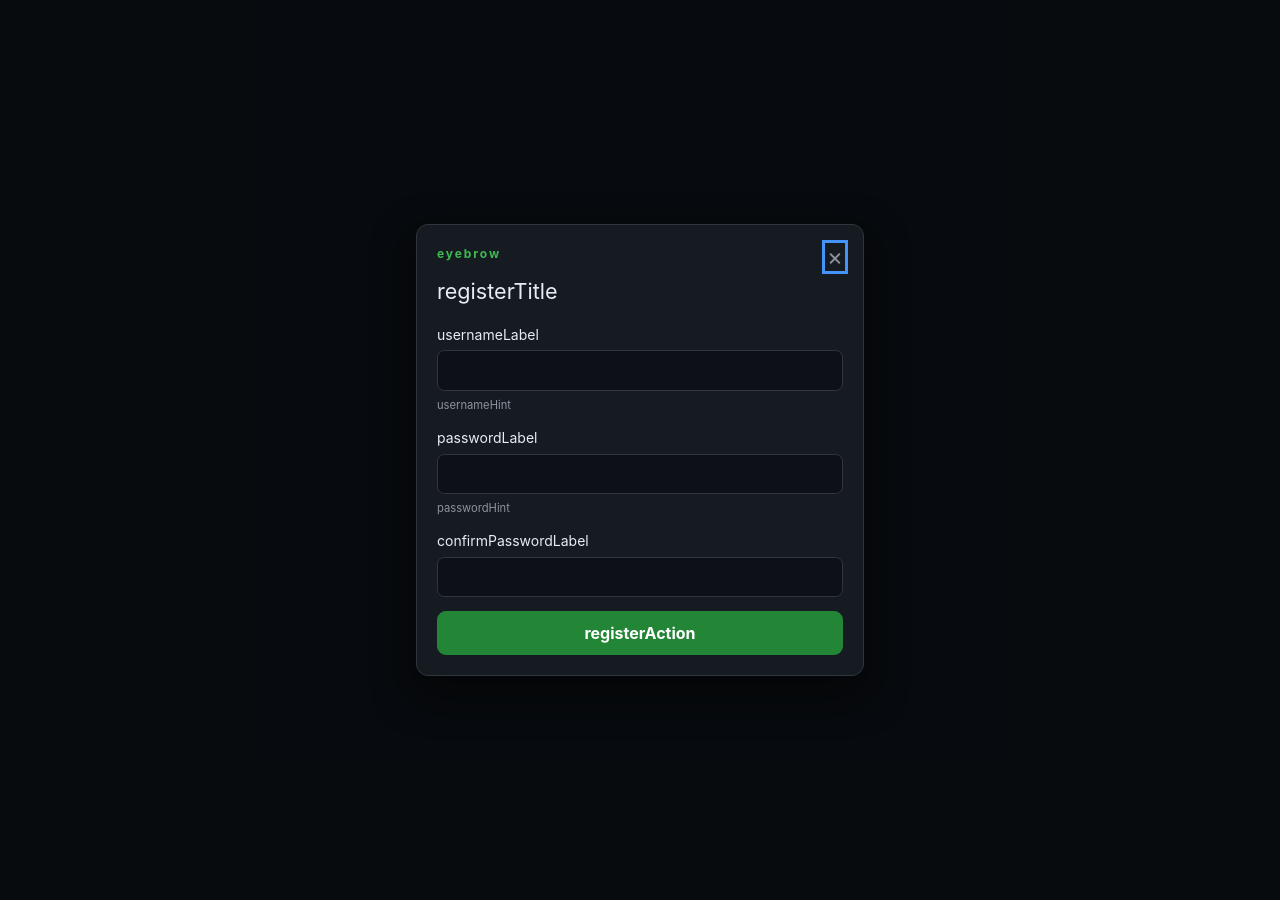
Test case: account-modal credentials › shows register failure after a valid registration submission (server detail)
The image size is (1280, 900).
Type "warsaw" into the field with id "register-username" at (640, 371), box [437,350,843,391]
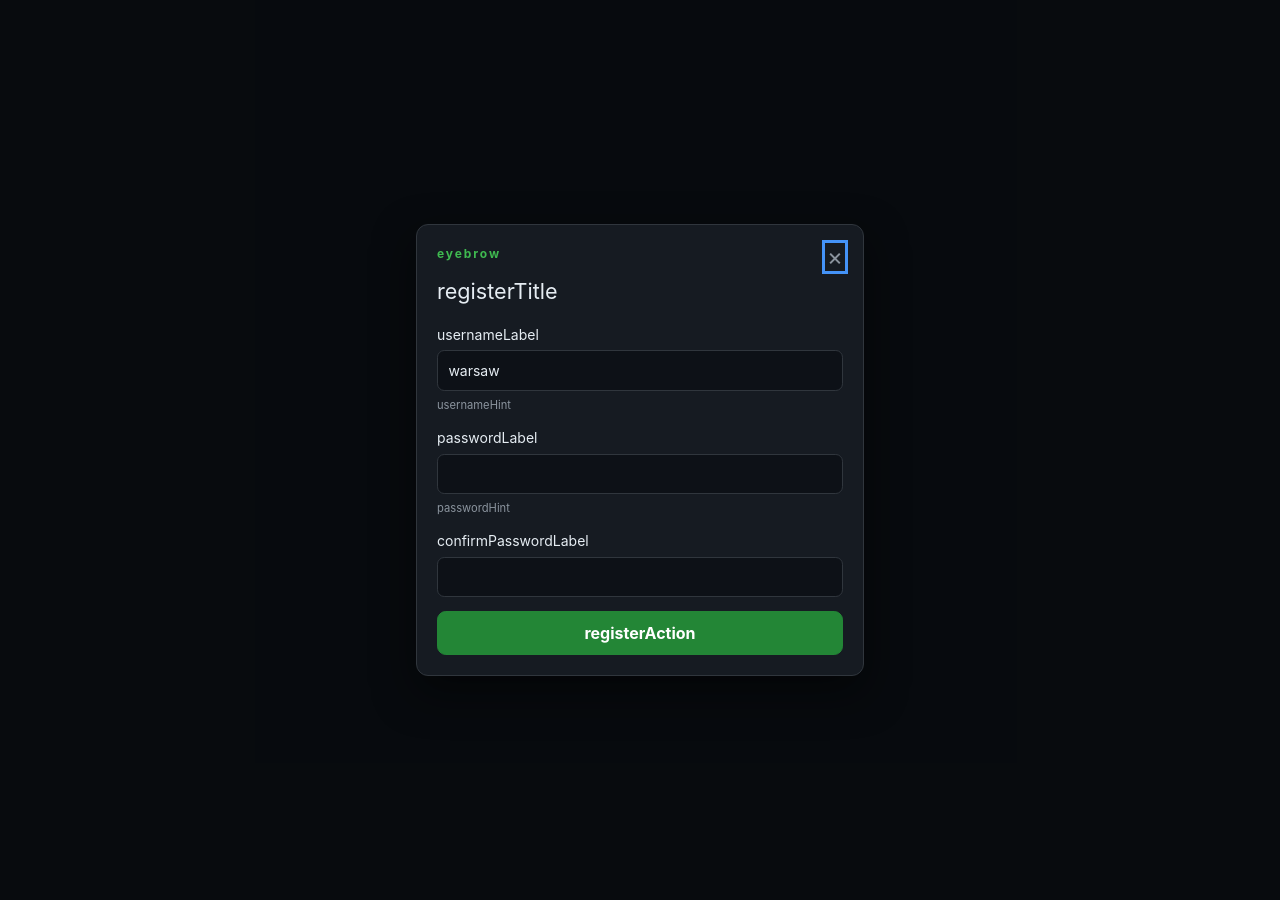
Type "longenough123" into the password field with id "register-password" at (640, 474), box [437,454,843,494]
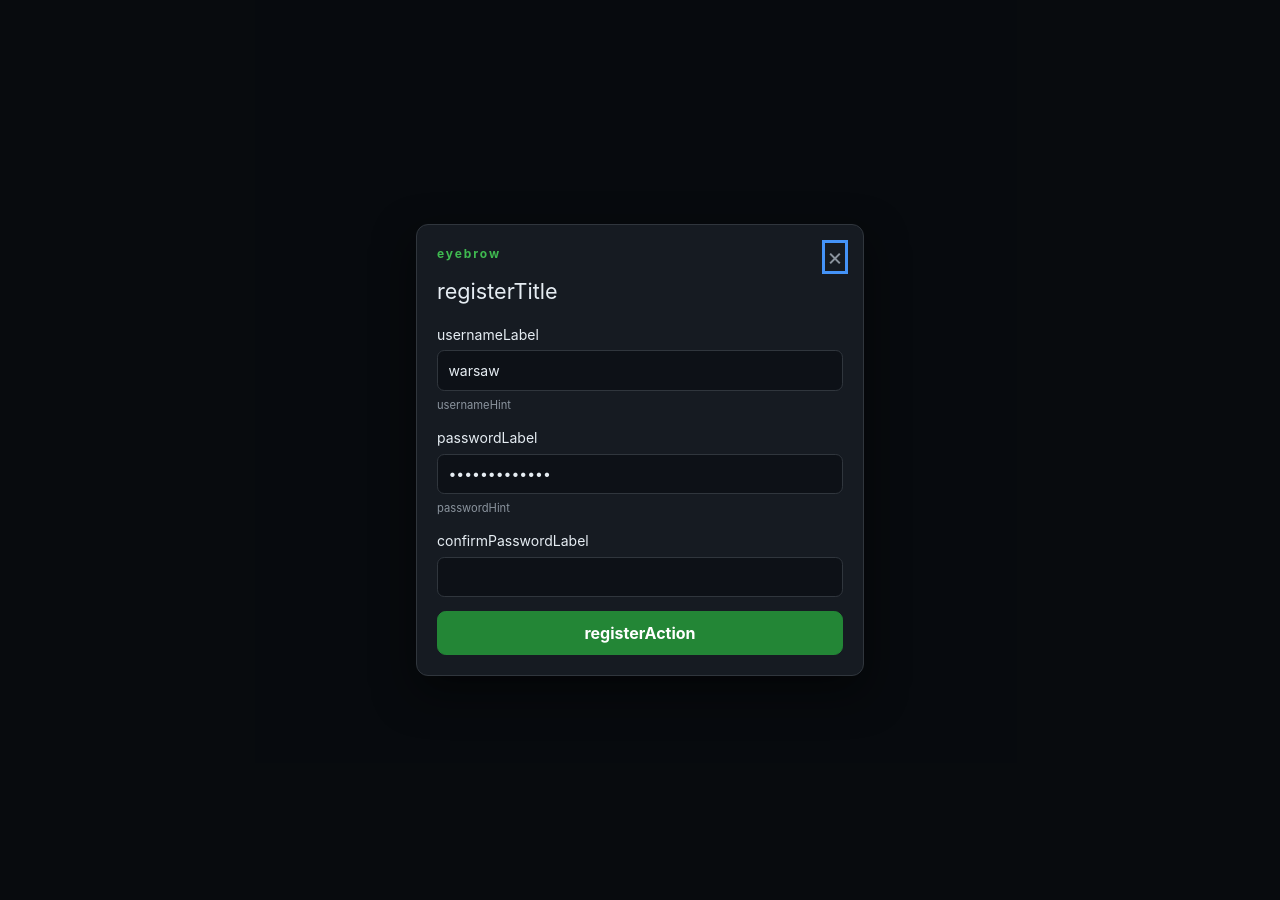
Type "longenough123" into the password field with id "register-confirm-password" at (640, 577), box [437,557,843,597]
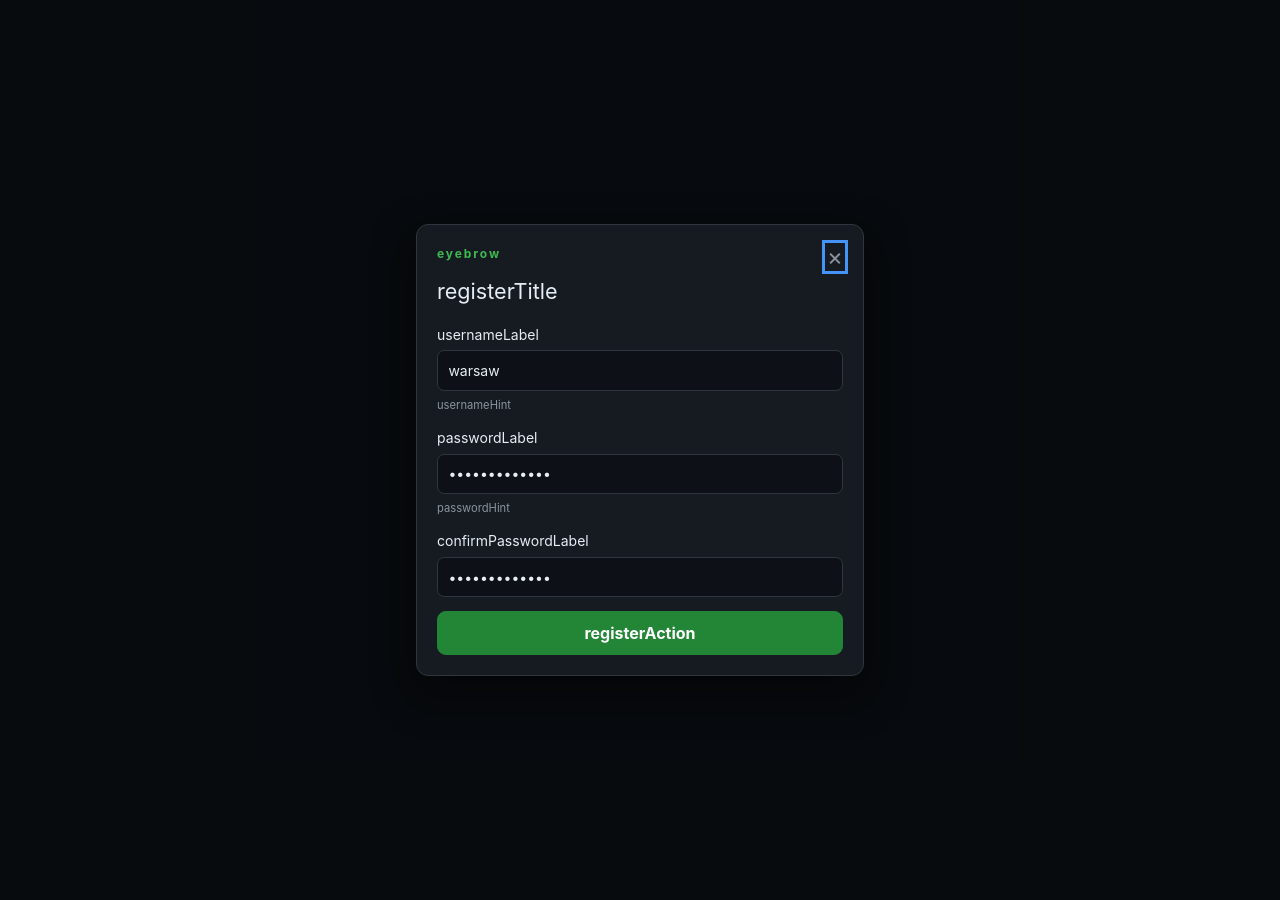
Click the button "registerAction" at (640, 633), box [437,611,843,655]
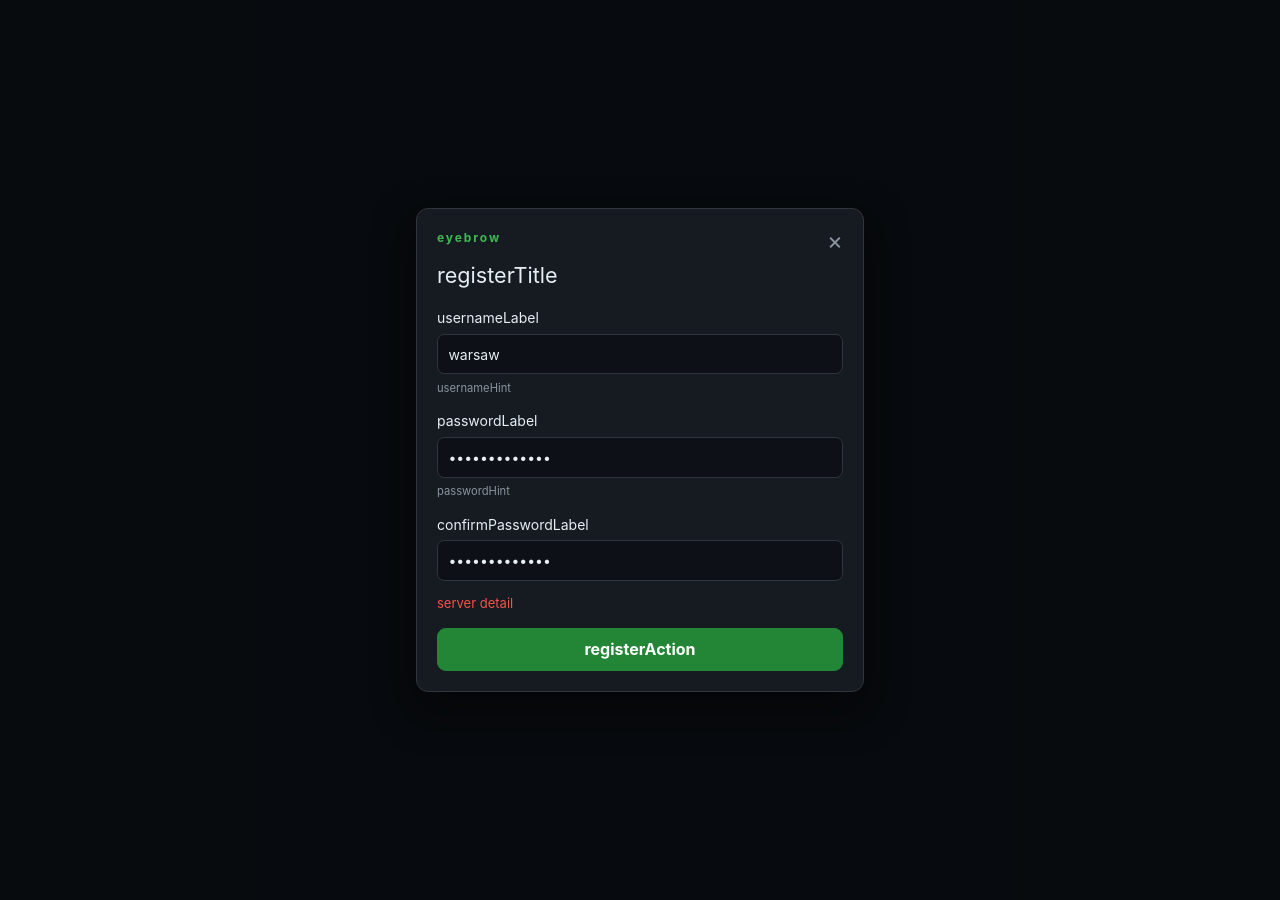
expect the message reads "server detail": met, box [437,595,513,611]
